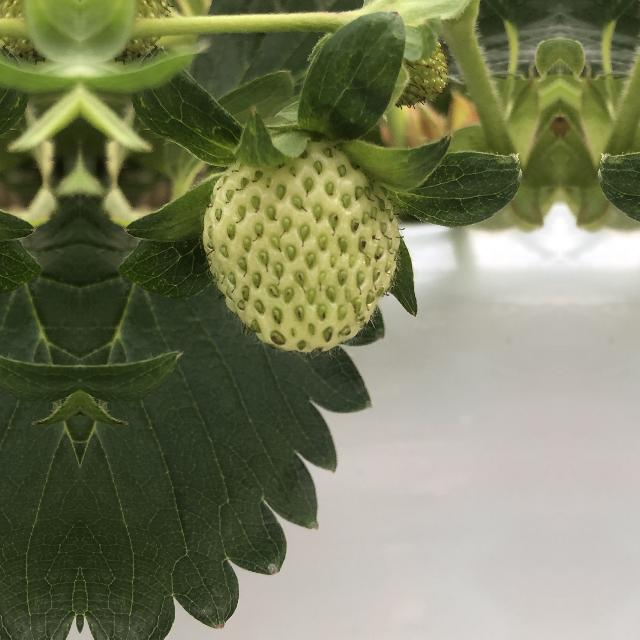Health_25: (200, 144, 402, 360)
